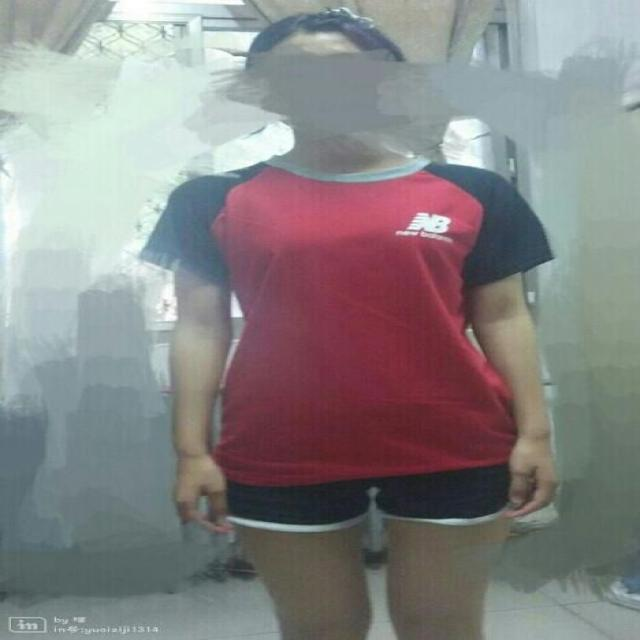short-sleeve-top: (124, 147, 602, 472)
shorts: (190, 478, 550, 560)
